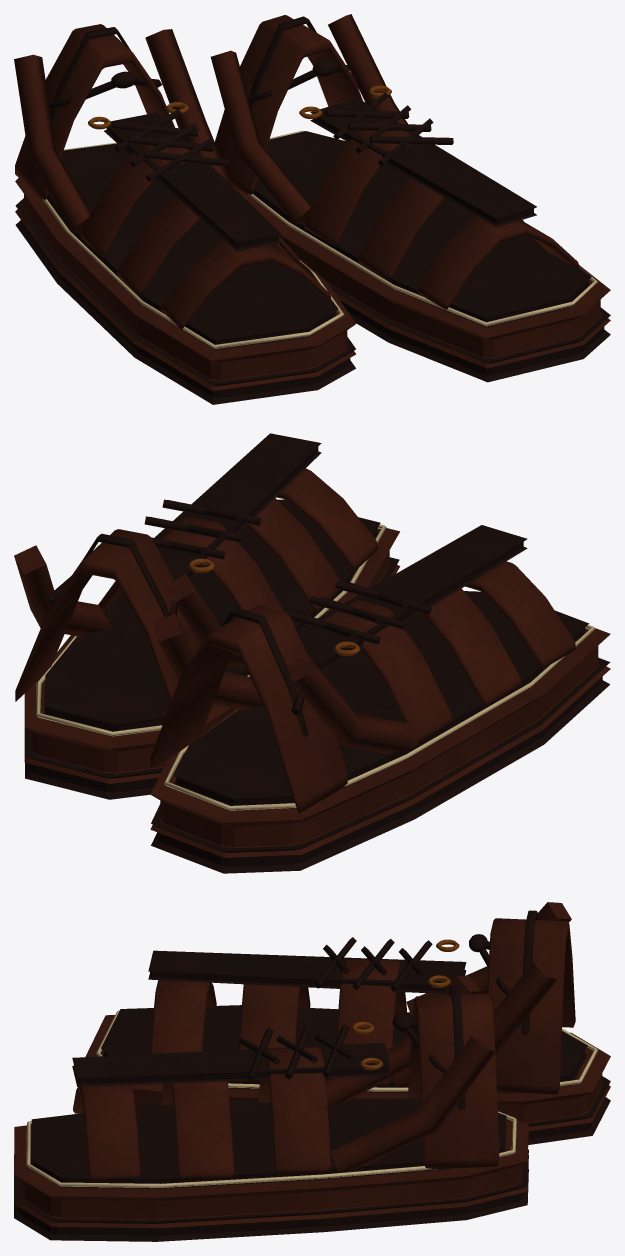
The model's file is roman_sandals_pair_LOD1.glb.
The picture shows the model from 3 angles, top to bottom: view 1: azimuth 30°, elevation 25°; view 2: azimuth 150°, elevation 25°; view 3: azimuth 270°, elevation 25°; orthographic projection. The views are drawn at different scales.
Visible parts, largest first — view 1: Right sandal inset worn footbed, Left sandal inset worn footbed, Left sandal thick stitched midsole, Right sandal thick stitched midsole, Right sandal padded ankle cuff, Left sandal closed dark outsole, Right sandal central T placket, Left sandal central T placket, Left sandal padded ankle cuff, Right sandal closed dark outsole, Left sandal closed heel side panel -1, Right sandal broad upper band 0 (+18 smaller); view 2: Left sandal thick stitched midsole, Left sandal inset worn footbed, Right sandal inset worn footbed, Left sandal padded ankle cuff, Left sandal closed dark outsole, Right sandal padded ankle cuff, Right sandal thick stitched midsole, Left sandal central T placket, Right sandal central T placket, Left sandal broad upper band 2, Left sandal broad upper band 1, Left sandal broad upper band 0 (+17 smaller); view 3: Right sandal thick stitched midsole, Right sandal inset worn footbed, Right sandal padded ankle cuff, Left sandal padded ankle cuff, Right sandal closed dark outsole, Right sandal central T placket, Left sandal central T placket, Right sandal broad upper band 2, Left sandal inset worn footbed, Right sandal broad upper band 1, Left sandal thick stitched midsole, Right sandal closed heel side panel 1 (+12 smaller).
Part boxes in pixels (x1,y1,x2,y2): Right sandal inset worn footbed: (252, 131, 591, 327); Left sandal inset worn footbed: (46, 143, 337, 350); Left sandal thick stitched midsole: (15, 178, 356, 390); Right sandal thick stitched midsole: (232, 186, 610, 368); Right sandal padded ankle cuff: (215, 15, 362, 195); Left sandal closed dark outsole: (15, 198, 355, 404); Right sandal central T placket: (310, 98, 536, 227); Left sandal central T placket: (104, 112, 281, 251); Left sandal padded ankle cuff: (15, 24, 175, 200); Right sandal closed dark outsole: (328, 283, 610, 382); Left sandal closed heel side panel -1: (14, 54, 90, 234); Right sandal broad upper band 0: (418, 216, 579, 309); Left sandal thick stitched midsole: (150, 628, 610, 857); Left sandal inset worn footbed: (173, 591, 589, 805); Right sandal inset worn footbed: (44, 499, 380, 731); Left sandal padded ankle cuff: (150, 605, 347, 813); Left sandal closed dark outsole: (151, 657, 610, 873); Right sandal padded ankle cuff: (15, 529, 213, 705); Right sandal thick stitched midsole: (24, 528, 399, 783); Left sandal central T placket: (296, 525, 527, 672); Right sandal central T placket: (154, 433, 321, 580); Left sandal broad upper band 2: (323, 600, 452, 743); Left sandal broad upper band 1: (423, 588, 521, 707); Left sandal broad upper band 0: (465, 561, 575, 668); Right sandal thick stitched midsole: (14, 1119, 528, 1228); Right sandal inset worn footbed: (30, 1098, 506, 1188); Right sandal padded ankle cuff: (408, 993, 499, 1169); Left sandal padded ankle cuff: (487, 918, 575, 1094); Right sandal closed dark outsole: (14, 1149, 528, 1241); Right sandal central T placket: (72, 1042, 390, 1086); Left sandal central T placket: (148, 950, 466, 993); Right sandal broad upper band 2: (258, 1047, 330, 1174); Left sandal inset worn footbed: (101, 1005, 587, 1093); Right sandal broad upper band 1: (161, 1081, 234, 1180); Left sandal thick stitched midsole: (85, 1015, 610, 1131); Right sandal closed heel side panel 1: (330, 1036, 495, 1172).
Bounding box in the file's own units: 0.2916 × 0.1437 × 0.3921.
Materials: 4 (4 with a texture image).
